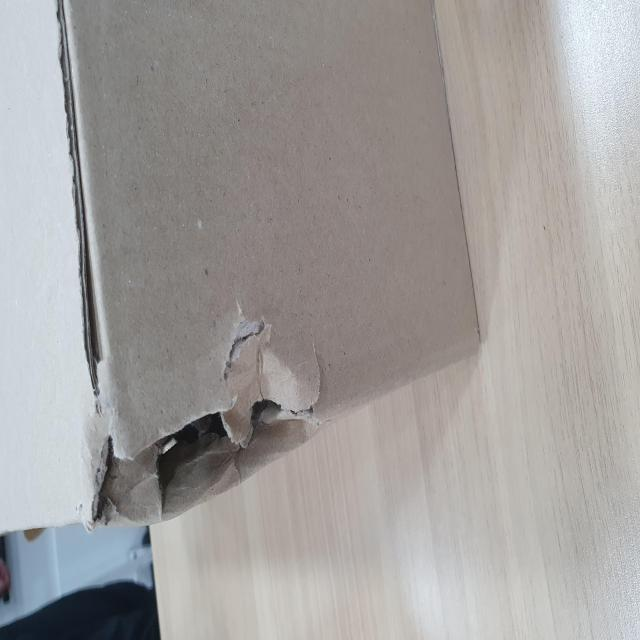damaged: (65, 147, 183, 557)
